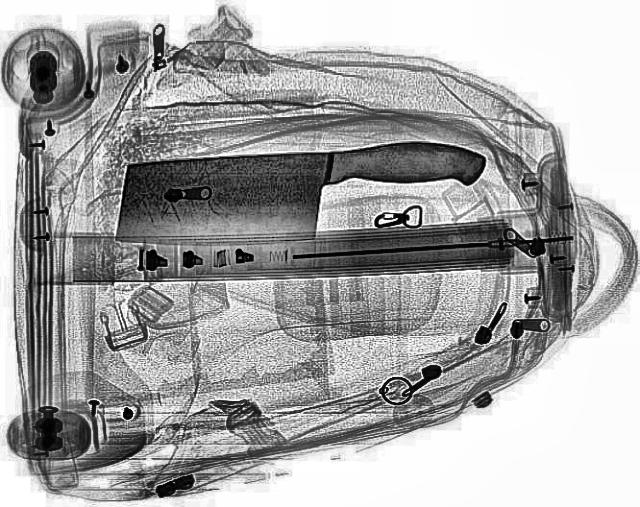Knife: (109, 139, 489, 251)
